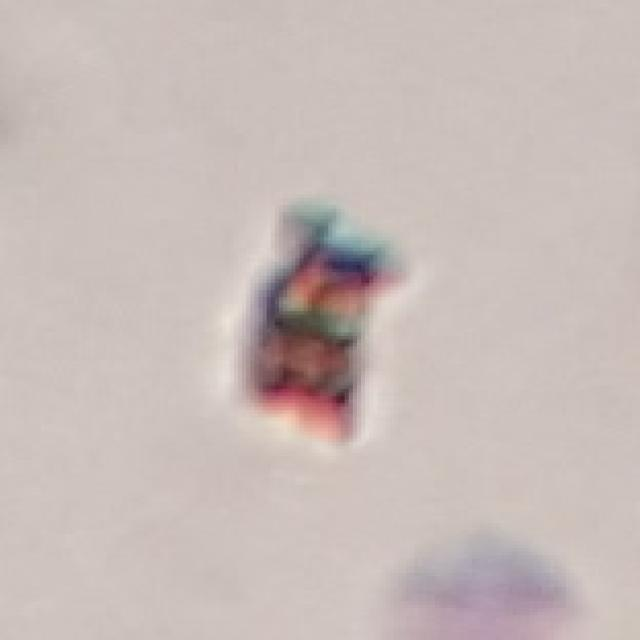non-sperm: (226, 195, 416, 466)
